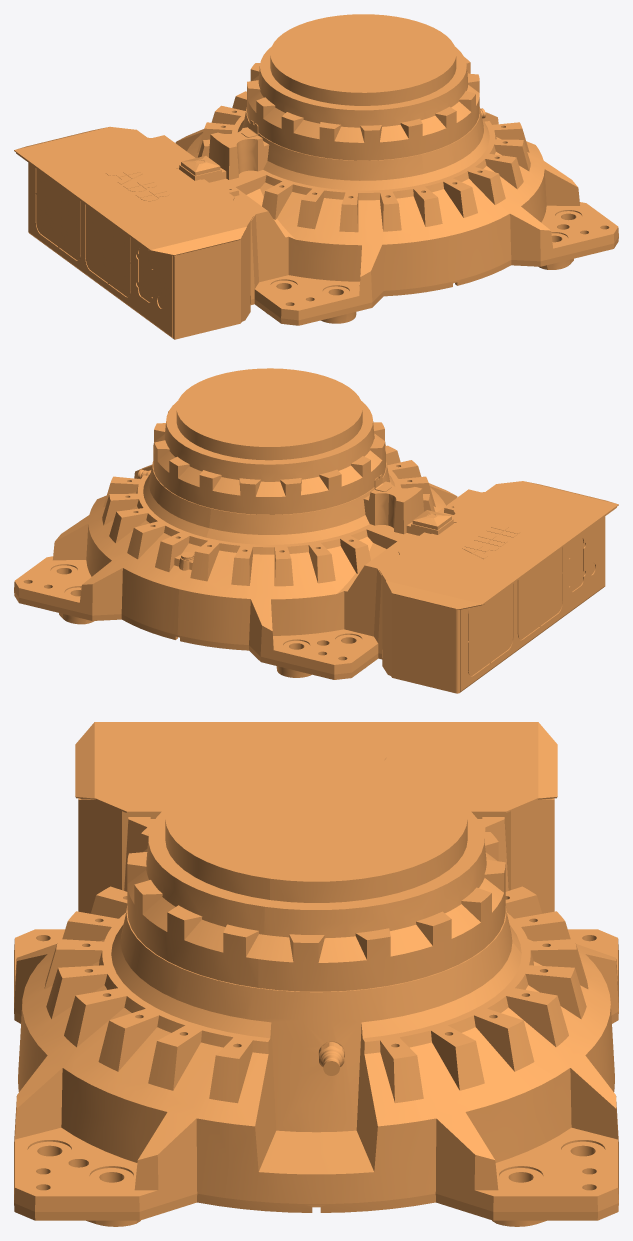
3 views of the same model, one above another, from view 1: azimuth 30°, elevation 25°; view 2: azimuth 150°, elevation 25°; view 3: azimuth 270°, elevation 25° (orthographic). The views are drawn at different scales.
Parts seen in each view (by area): view 1: mesh_0; view 2: mesh_0; view 3: mesh_0.
Part boxes in pixels (left/top/right/bottom): mesh_0: left=14, top=14, right=618, bottom=339; mesh_0: left=14, top=368, right=618, bottom=693; mesh_0: left=14, top=722, right=618, bottom=1226.
Size of the model in its own units: 1 by 0.3735 by 0.72.
